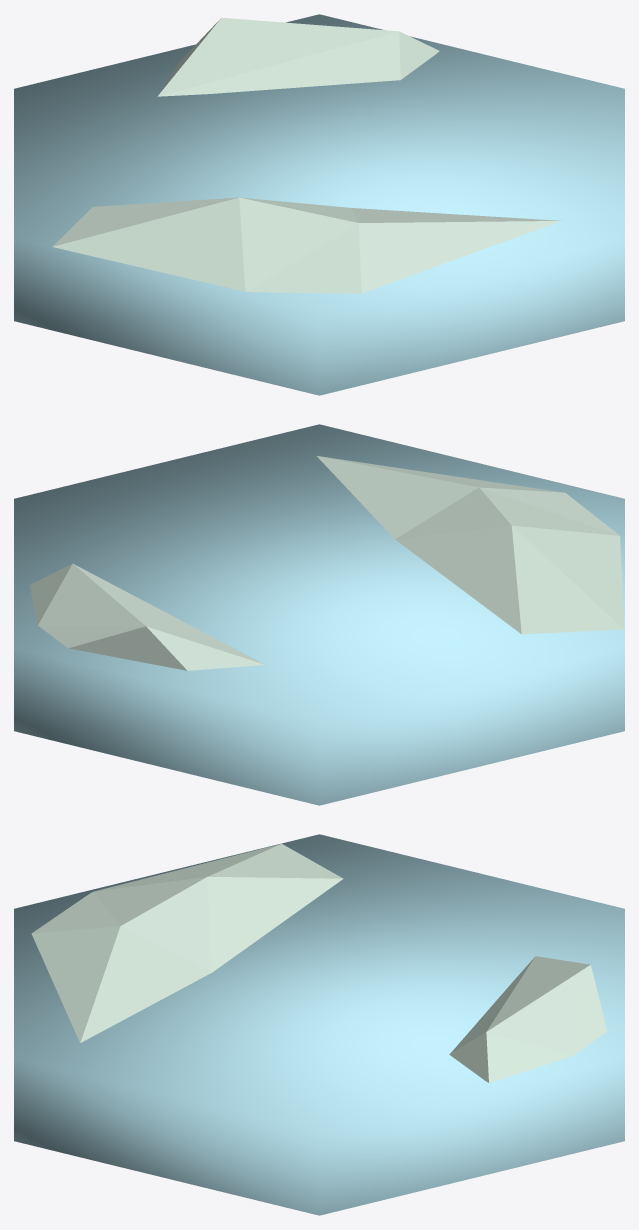
File: Altgen_Karl_.fbx
3 views of the same model, one above another, from view 1: azimuth 30°, elevation 25°; view 2: azimuth 150°, elevation 25°; view 3: azimuth 270°, elevation 25° (orthographic).
Parts seen in each view (by area): view 1: Circle.001; view 2: Circle.001; view 3: Circle.001.
Part boxes in pixels (x1=…): Circle.001: x1=14, y1=14, x2=624, y2=395; Circle.001: x1=14, y1=424, x2=624, y2=805; Circle.001: x1=14, y1=834, x2=624, y2=1215.
Bounding box in the file's own units: 46.06 × 8.88 × 39.88.
